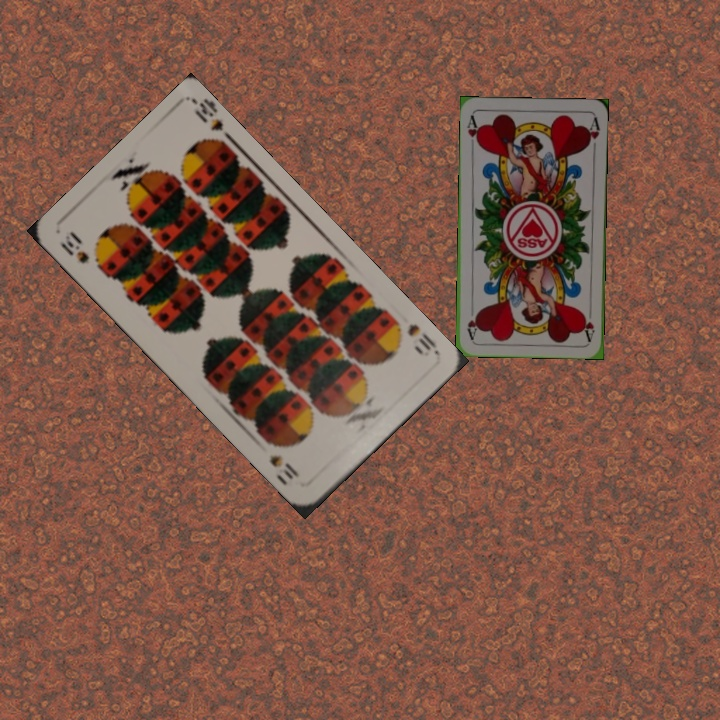HA: (463, 111, 482, 152), (580, 302, 597, 343)
S10: (388, 314, 440, 359), (56, 227, 92, 267)
